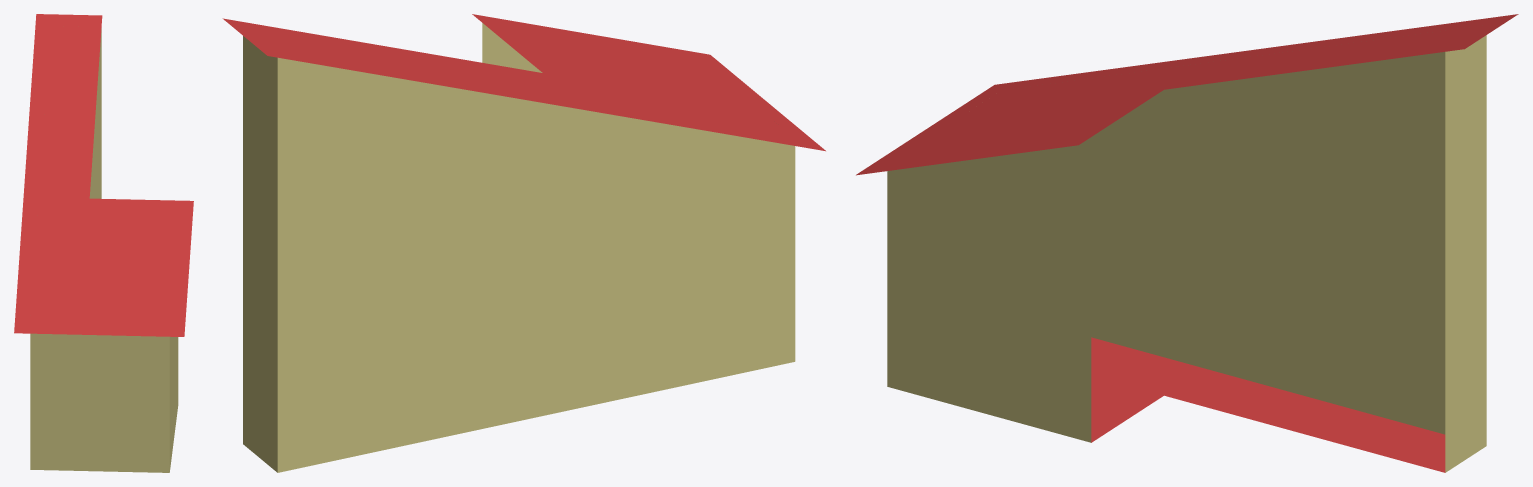
3 renders of one model, left to right at view 1: azimuth 30°, elevation 25°; view 2: azimuth 150°, elevation 25°; view 3: azimuth 270°, elevation 25°, orthographic. The views are drawn at different scales.
Size of the model in its own units: 9.1 by 14.24 by 10.16.
